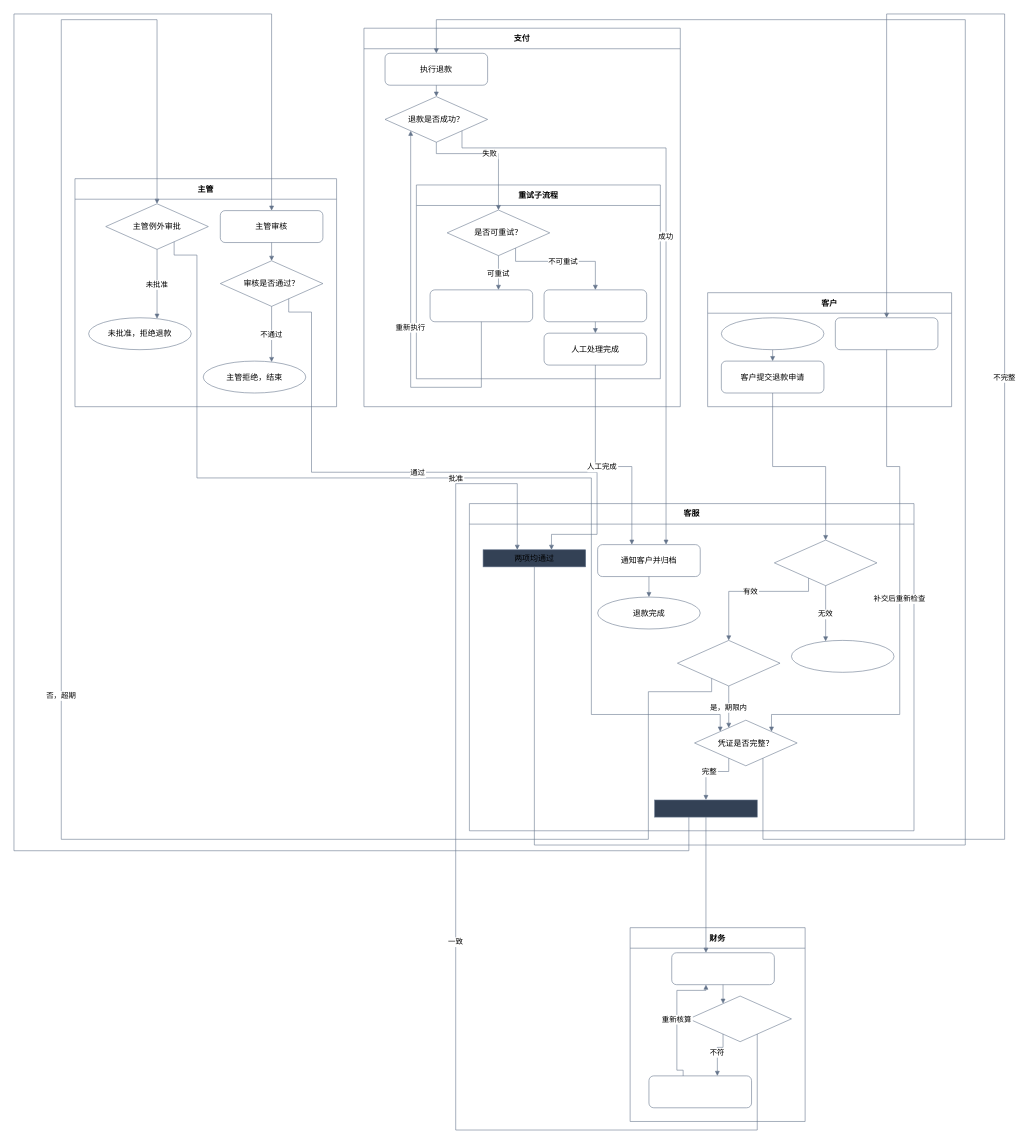
This 1027x1145 diagram has some shape labels left out. The centre of each missing label's shape, as x and y in pixels:
开始: point (772, 333)
拒绝退款: point (842, 656)
是否在退款期限内？: point (728, 663)
更正并重新核算: point (700, 1091)
校验订单有效性: point (825, 563)
财务核算金额: point (722, 968)
转人工处理: point (595, 305)
通知客户补交凭证: point (886, 333)
重试退款: point (481, 305)
金额是否一致？: point (739, 1019)
